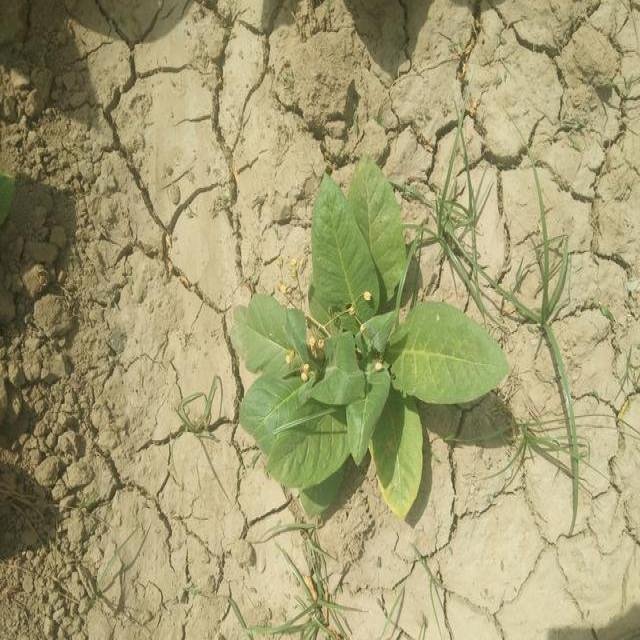crop: (234, 160, 508, 515)
